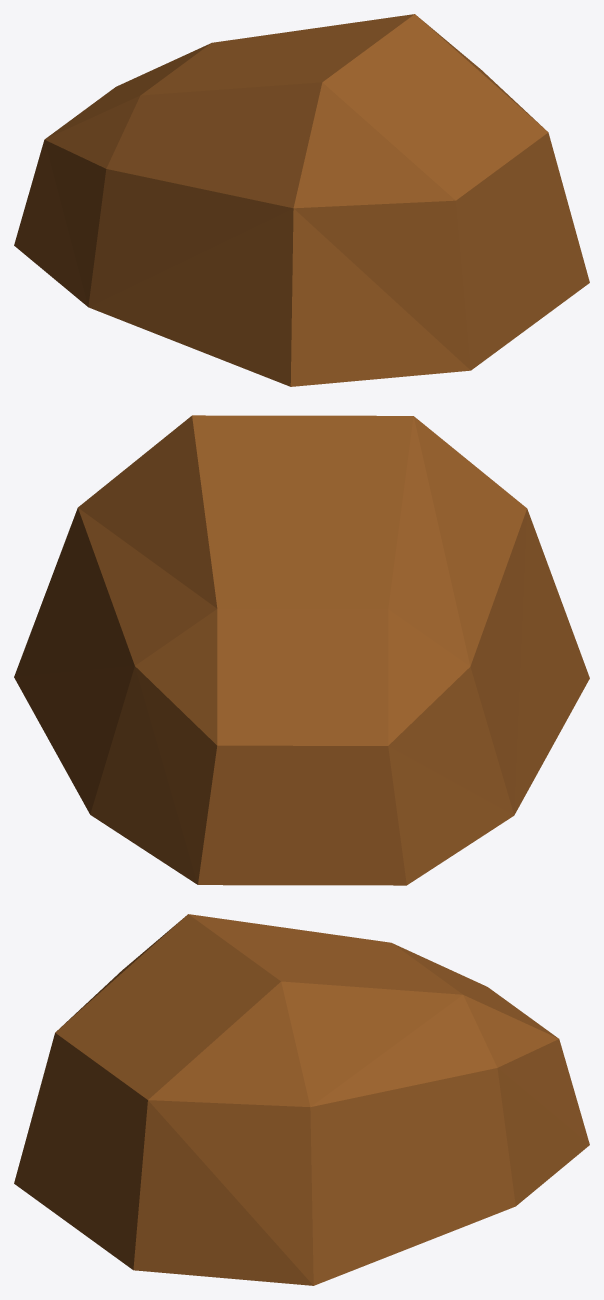
Rendered from Toad_ILeg.obj.
3 views of the same model, one above another, from view 1: azimuth 30°, elevation 25°; view 2: azimuth 150°, elevation 25°; view 3: azimuth 270°, elevation 25° (orthographic). The views are drawn at different scales.
Parts seen in each view (by area): view 1: Toad_LPata; view 2: Toad_LPata; view 3: Toad_LPata.
Boxes of the visible parts, box(x1,y1,x2,y2) form: Toad_LPata: box(14, 14, 589, 386); Toad_LPata: box(14, 415, 589, 885); Toad_LPata: box(14, 914, 589, 1285).
Bounding box in the file's own units: 0.4022 × 0.2155 × 0.4654.
Materials: 1 (1 with a texture image).
